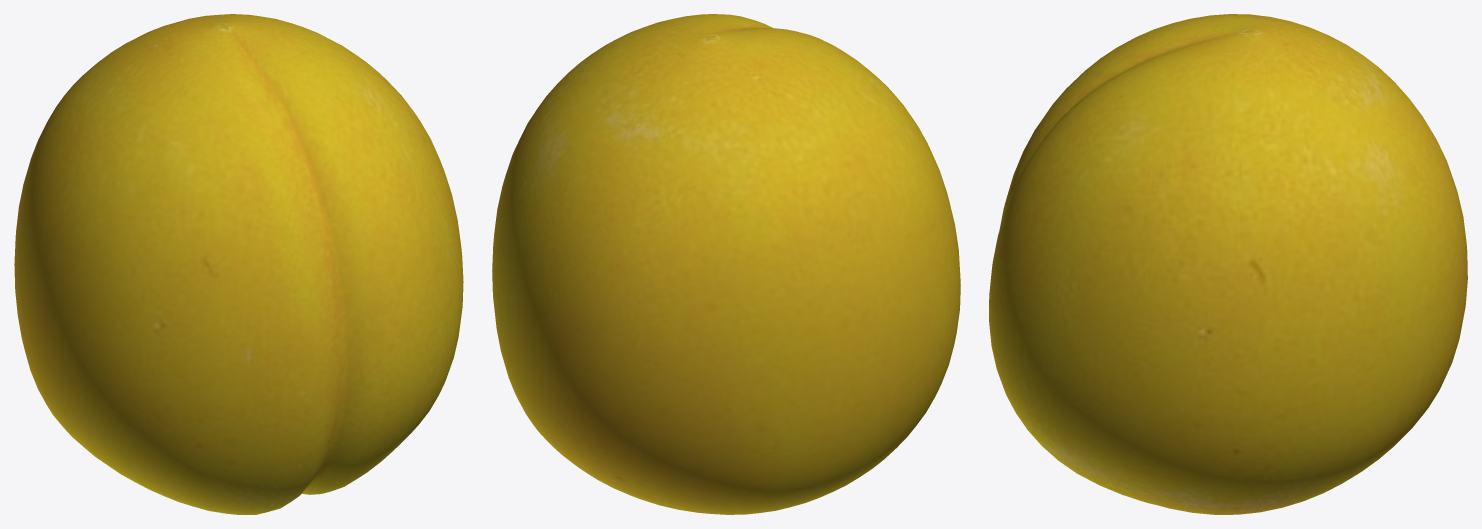
The model's file is SM_YellowPeach.fbx.
The picture shows the model from 3 angles, left to right: view 1: azimuth 30°, elevation 25°; view 2: azimuth 150°, elevation 25°; view 3: azimuth 270°, elevation 25°; orthographic projection. The views are drawn at different scales.
Visible parts, largest first — view 1: YellowPeachPeel; view 2: YellowPeachPeel; view 3: YellowPeachPeel.
Boxes of the visible parts, bbox=[...] form: YellowPeachPeel: bbox=[14, 14, 463, 514]; YellowPeachPeel: bbox=[492, 14, 960, 514]; YellowPeachPeel: bbox=[989, 14, 1467, 514].
Size of what is drawn, in the model's own units: 9.88 by 10.25 by 10.7.
